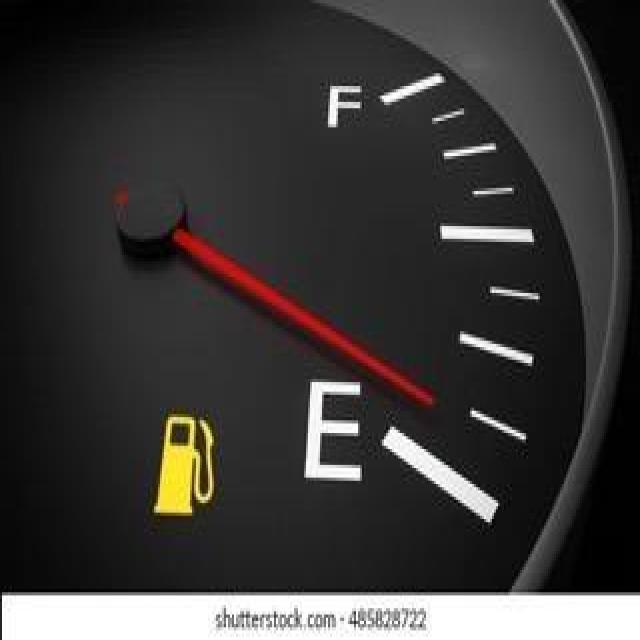kontrolka: (131, 395, 237, 553)
